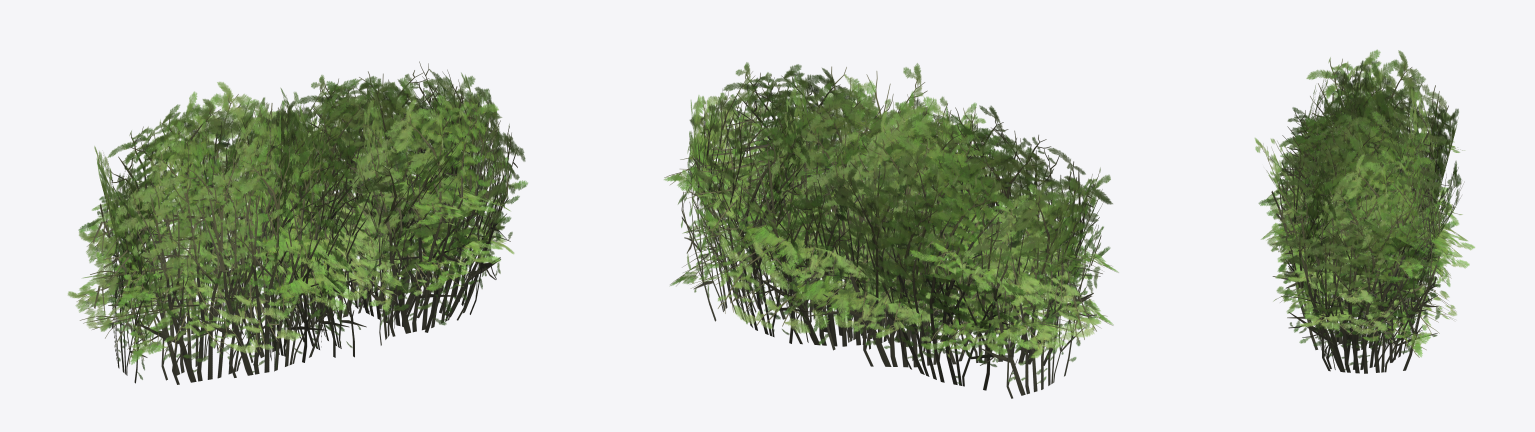
File: hedge.glb
3 views of the same model, side by side, from view 1: azimuth 30°, elevation 25°; view 2: azimuth 150°, elevation 25°; view 3: azimuth 270°, elevation 25° (orthographic). The views are drawn at different scales.
Parts seen in each view (by area): view 1: Hedge-01; view 2: Hedge-01; view 3: Hedge-01.
Part boxes in pixels (x1,y1,x2,y2): Hedge-01: [68, 61, 527, 384]; Hedge-01: [664, 62, 1118, 398]; Hedge-01: [1254, 49, 1474, 373].
Size of the model in its own units: 3.17 by 1.41 by 1.84.
Materials: 4 (4 with a texture image).
